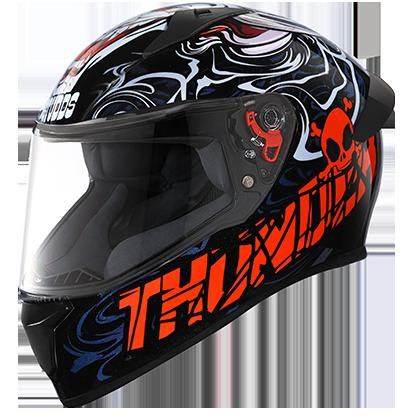helmet: (20, 3, 395, 406)
